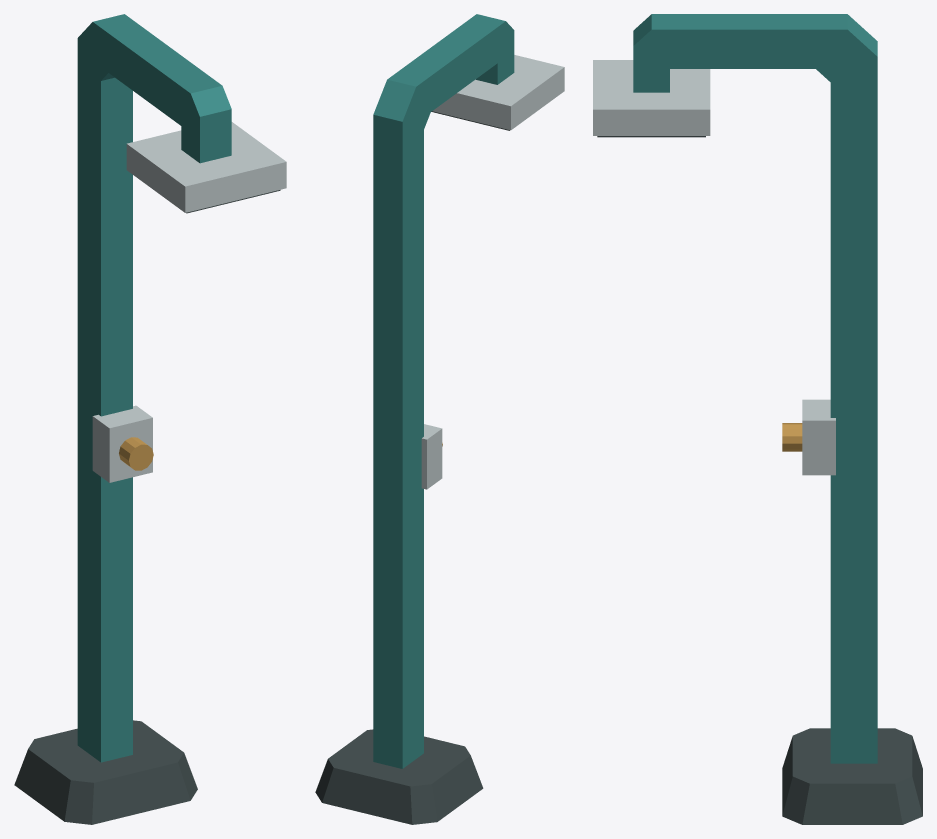
The picture shows the model from 3 angles, left to right: view 1: azimuth 30°, elevation 25°; view 2: azimuth 150°, elevation 25°; view 3: azimuth 270°, elevation 25°; orthographic projection. The views are drawn at different scales.
Parts seen in each view (by area): view 1: Shower_ContinuousPostArm, Shower_GroundedFoot, Shower_RecessedHeadShell, Shower_FixedValveBlock, Shower_FixedPushButton; view 2: Shower_ContinuousPostArm, Shower_GroundedFoot, Shower_RecessedHeadShell, Shower_FixedValveBlock; view 3: Shower_ContinuousPostArm, Shower_GroundedFoot, Shower_RecessedHeadShell, Shower_FixedValveBlock, Shower_FixedPushButton.
Part boxes in pixels (x1,y1,x2,y2): Shower_ContinuousPostArm: [77, 14, 231, 762]; Shower_GroundedFoot: [14, 720, 197, 824]; Shower_RecessedHeadShell: [126, 122, 286, 212]; Shower_FixedValveBlock: [92, 405, 152, 482]; Shower_FixedPushButton: [119, 437, 153, 470]; Shower_ContinuousPostArm: [373, 14, 514, 768]; Shower_GroundedFoot: [315, 729, 483, 824]; Shower_RecessedHeadShell: [432, 55, 564, 130]; Shower_FixedValveBlock: [421, 424, 442, 489]; Shower_ContinuousPostArm: [633, 14, 877, 763]; Shower_GroundedFoot: [782, 728, 922, 824]; Shower_RecessedHeadShell: [593, 60, 710, 135]; Shower_FixedValveBlock: [802, 399, 835, 475]; Shower_FixedPushButton: [782, 423, 802, 451].
Bounding box in the file's own units: 0.46 × 2.54 × 0.985.
